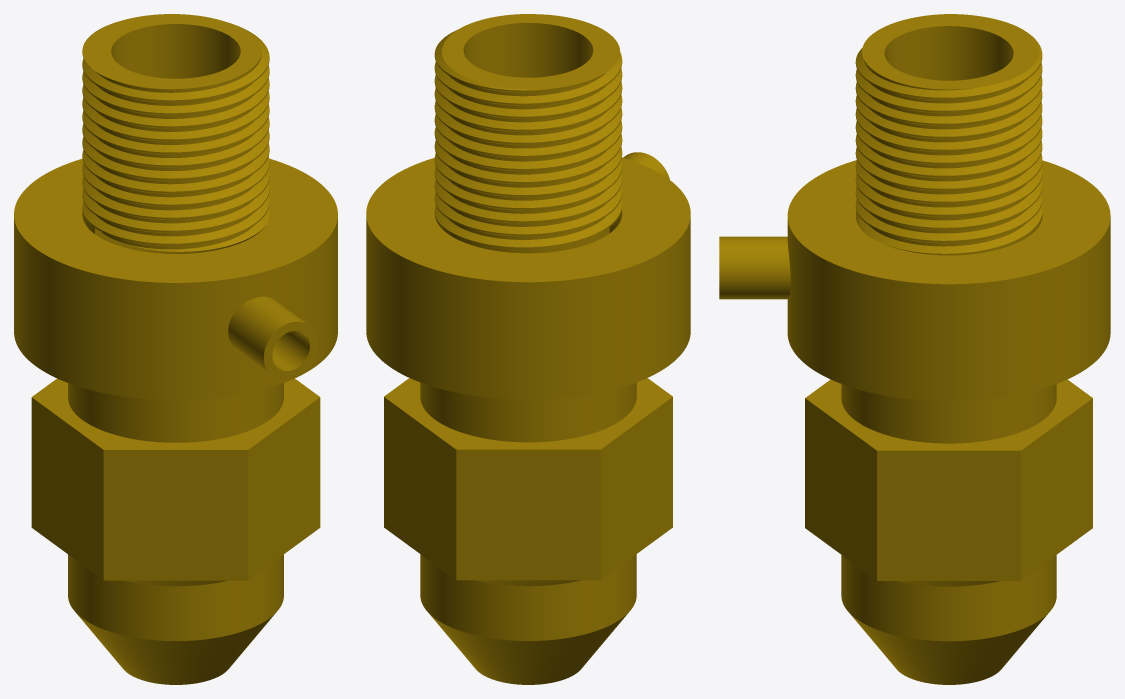
Rendered from spray nozzle.fbx.
The picture shows the model from 3 angles, left to right: view 1: azimuth 30°, elevation 25°; view 2: azimuth 150°, elevation 25°; view 3: azimuth 270°, elevation 25°; orthographic projection.
Visible parts, largest first — view 1: SPRAY NOZZLE (×2); view 2: SPRAY NOZZLE (×2); view 3: SPRAY NOZZLE (×2).
Part boxes in pixels (x1,y1,x2,y2): SPRAY NOZZLE (×2): (14, 14, 337, 684); SPRAY NOZZLE (×2): (366, 14, 690, 684); SPRAY NOZZLE (×2): (719, 14, 1110, 684).
Bounding box in the file's own units: 45 × 93.5 × 54.5.
